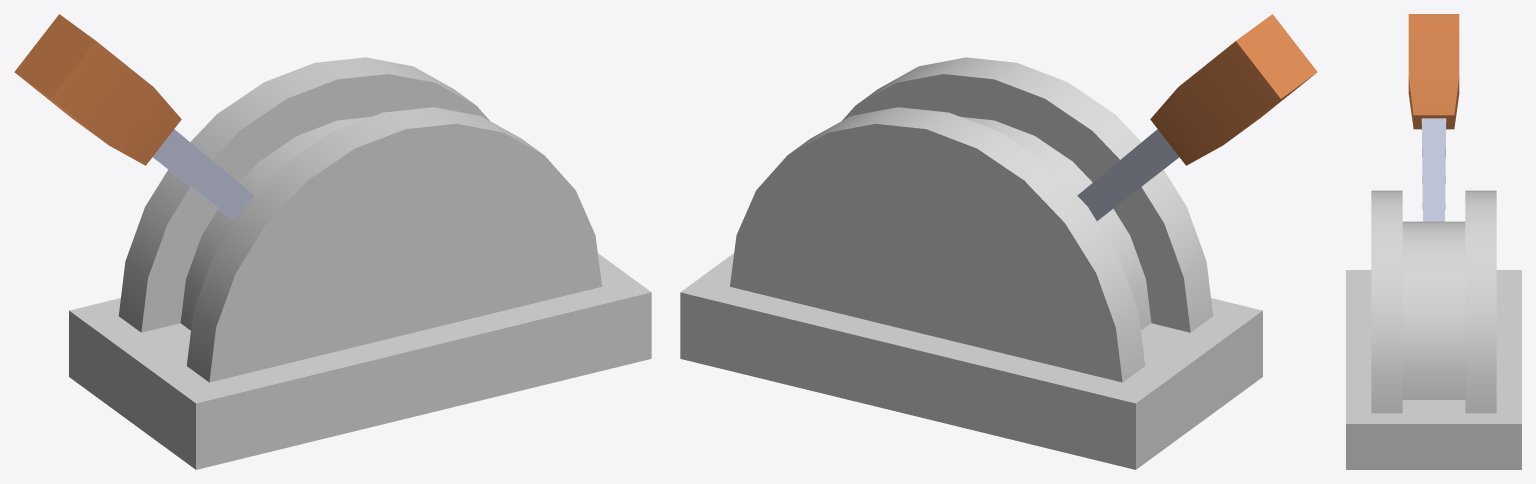
File: 02_lever.FBX
The picture shows the model from 3 angles, left to right: view 1: azimuth 30°, elevation 25°; view 2: azimuth 150°, elevation 25°; view 3: azimuth 270°, elevation 25°; orthographic projection. The views are drawn at different scales.
Parts seen in each view (by area): view 1: lever, handle; view 2: lever, handle; view 3: lever, handle.
Boxes of the visible parts, x1,y1,x2,y2 form: lever: [69, 57, 651, 469]; handle: [14, 14, 254, 220]; lever: [680, 57, 1262, 469]; handle: [1077, 14, 1317, 220]; lever: [1346, 190, 1521, 469]; handle: [1408, 14, 1459, 221].
Size of the model in its own units: 70.72 by 49.81 by 28.
